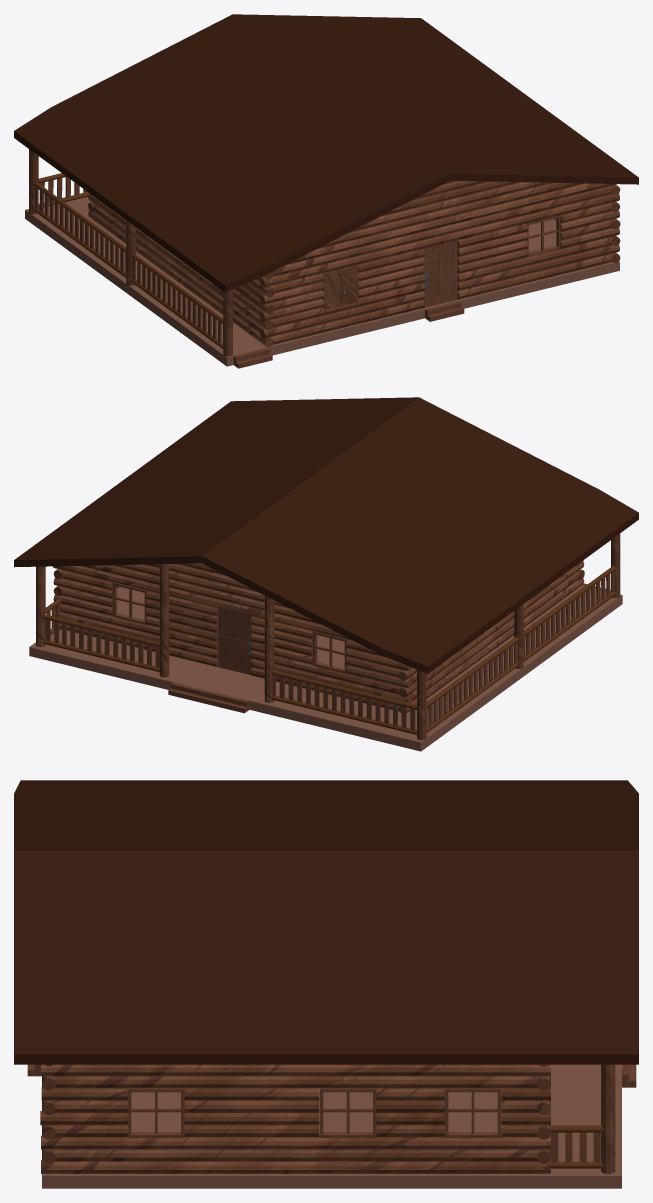
Rendered from CabinSprint3.fbx.
The picture shows the model from 3 angles, top to bottom: view 1: azimuth 30°, elevation 25°; view 2: azimuth 150°, elevation 25°; view 3: azimuth 270°, elevation 25°; orthographic projection. The views are drawn at different scales.
Visible parts, largest first — view 1: Roof2.003, Cube.115, Step1Back.006, Cube.118, Circle.024; view 2: Roof2.003, Cube.115, Cube.118, Step1Back.006, Circle.031; view 3: Roof2.003, Cube.115, Step1Back.006, Cube.118.
Boxes of the visible parts, bbox=[...] form: Roof2.003: bbox=[14, 14, 638, 292]; Cube.115: bbox=[88, 180, 620, 347]; Step1Back.006: bbox=[25, 197, 619, 368]; Cube.118: bbox=[29, 149, 232, 356]; Circle.024: bbox=[423, 240, 457, 307]; Roof2.003: bbox=[14, 397, 638, 673]; Cube.115: bbox=[53, 560, 584, 713]; Cube.118: bbox=[36, 533, 620, 740]; Step1Back.006: bbox=[29, 583, 622, 751]; Circle.031: bbox=[218, 606, 251, 674]; Roof2.003: bbox=[14, 780, 638, 1064]; Cube.115: bbox=[40, 1064, 550, 1173]; Step1Back.006: bbox=[27, 1064, 636, 1188]; Cube.118: bbox=[550, 1064, 615, 1173].
Bounding box in the file's own units: 9617 × 3308 × 8819.
